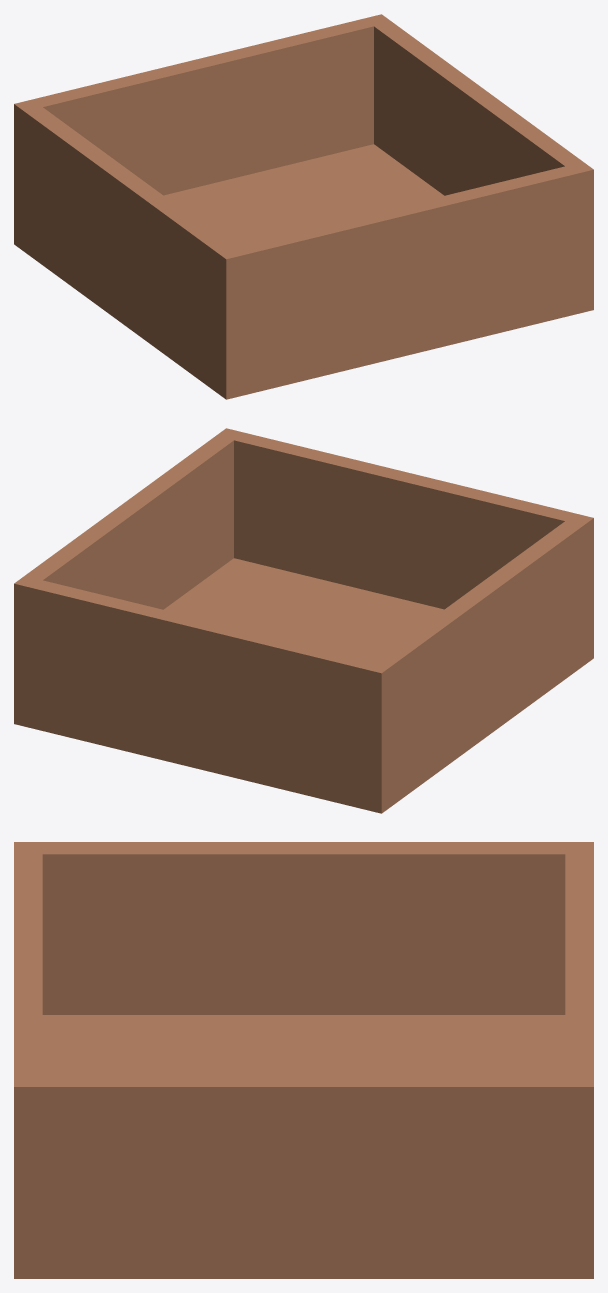
Rendered from Farmer_Stall__Fruit_Crate.fbx.
The picture shows the model from 3 angles, top to bottom: view 1: azimuth 30°, elevation 25°; view 2: azimuth 150°, elevation 25°; view 3: azimuth 270°, elevation 25°; orthographic projection. The views are drawn at different scales.
Parts seen in each view (by area): view 1: Fruit_crate; view 2: Fruit_crate; view 3: Fruit_crate.
Part boxes in pixels (bbox=[...]): Fruit_crate: bbox=[14, 14, 593, 399]; Fruit_crate: bbox=[14, 428, 593, 813]; Fruit_crate: bbox=[14, 842, 593, 1278].
Size of the model in its own units: 6.05 by 2.21 by 6.05.
